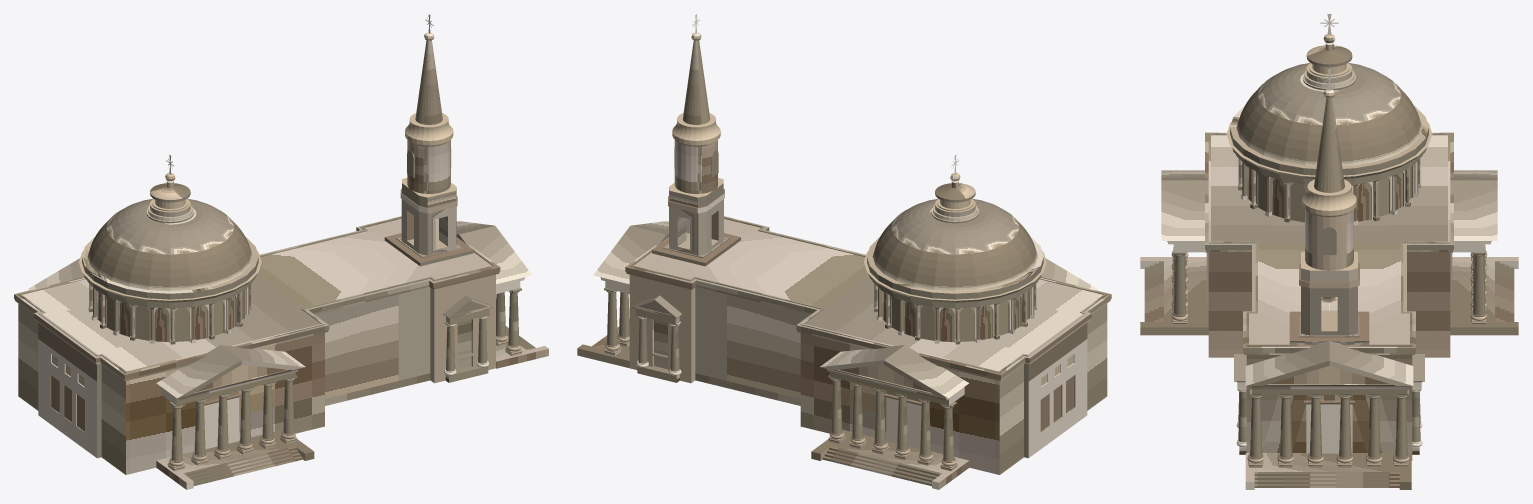
3 renders of one model, left to right at view 1: azimuth 30°, elevation 25°; view 2: azimuth 150°, elevation 25°; view 3: azimuth 270°, elevation 25°, orthographic. The views are drawn at different scales.
Visible parts, largest first — view 1: tp; view 2: tp; view 3: tp.
Part boxes in pixels (left/top/right/bottom): tp: left=14, top=14, right=548, bottom=489; tp: left=577, top=14, right=1111, bottom=489; tp: left=1140, top=14, right=1518, bottom=489.
Bounding box in the file's own units: 49.75 × 35.55 × 32.47.
1 material, 1 textured.
